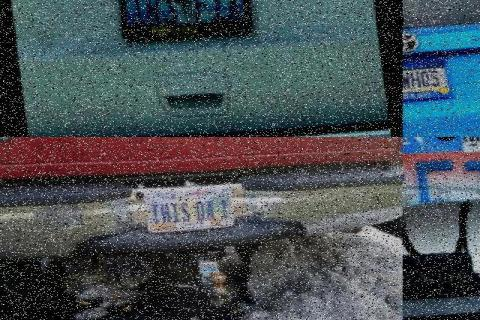LicensePlate: (403, 137, 480, 297), (107, 0, 248, 47), (138, 190, 229, 236), (401, 59, 446, 104)
